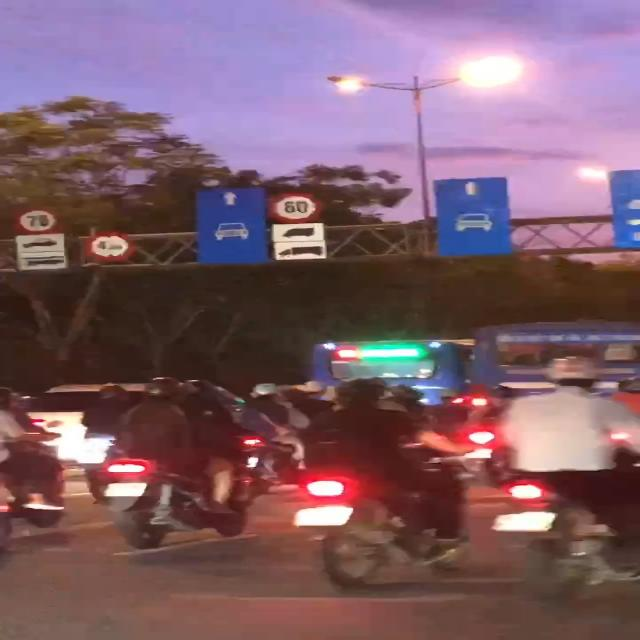Bien bao toc do toi da cho phep: (260, 190, 327, 223), (10, 205, 69, 236)
